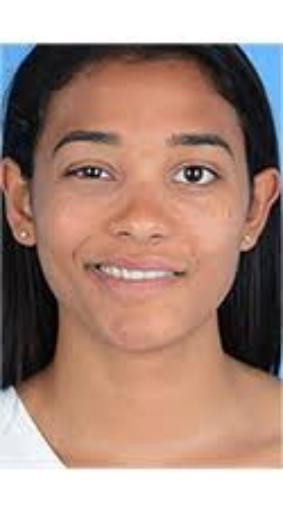left_eye: (164, 159, 222, 190)
left_lip_corner: (175, 267, 193, 284)
right_eye: (62, 167, 118, 190)
right_lip_corner: (81, 256, 107, 279)
